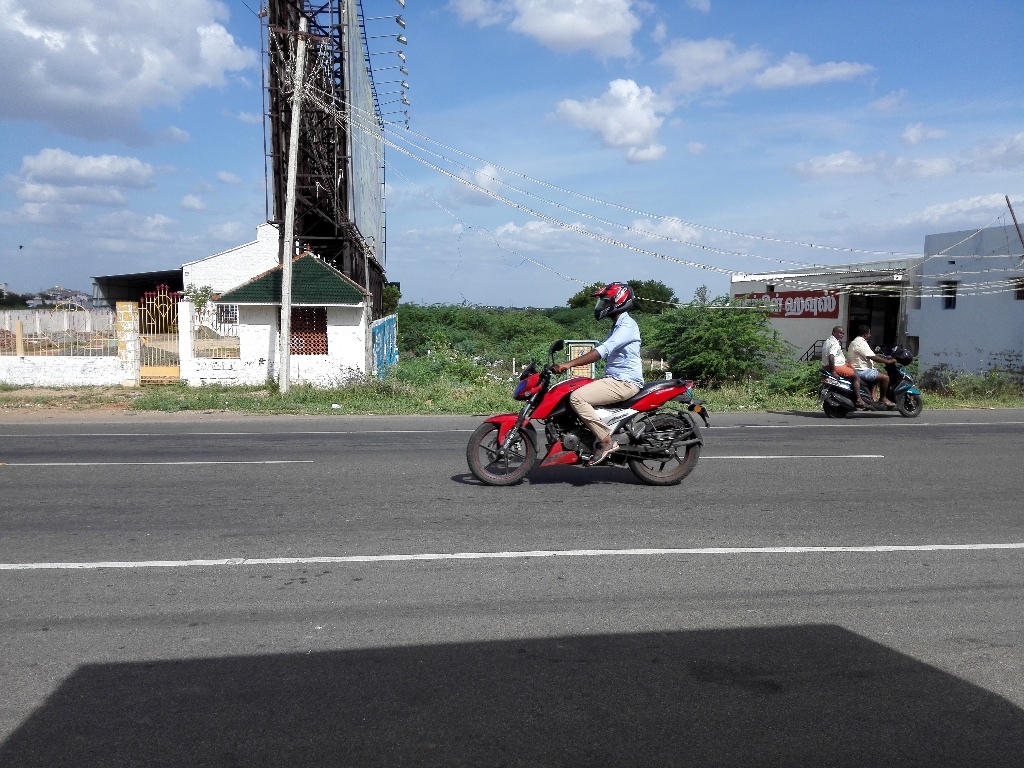biker: (455, 248, 725, 501), (808, 287, 933, 429)
helmet: (588, 273, 643, 330)
nohelmet: (828, 320, 847, 344), (855, 320, 874, 344)
